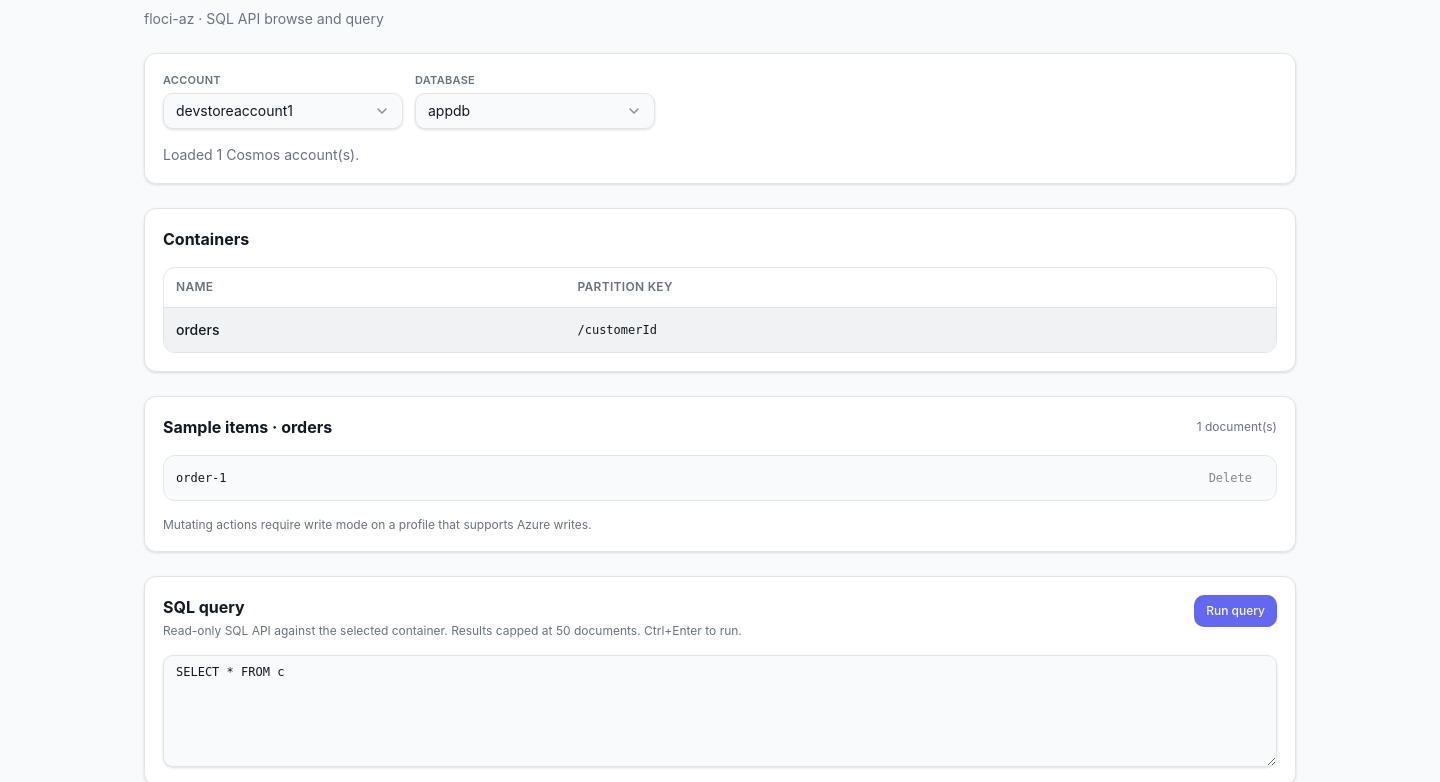
Scenario: AzureCosmosView › shows a query error from the backend
The width and height of the screenshot is (1440, 782).
Click the button "Run query" at (1236, 611), box [1194,595,1277,627]
(page scrolled)
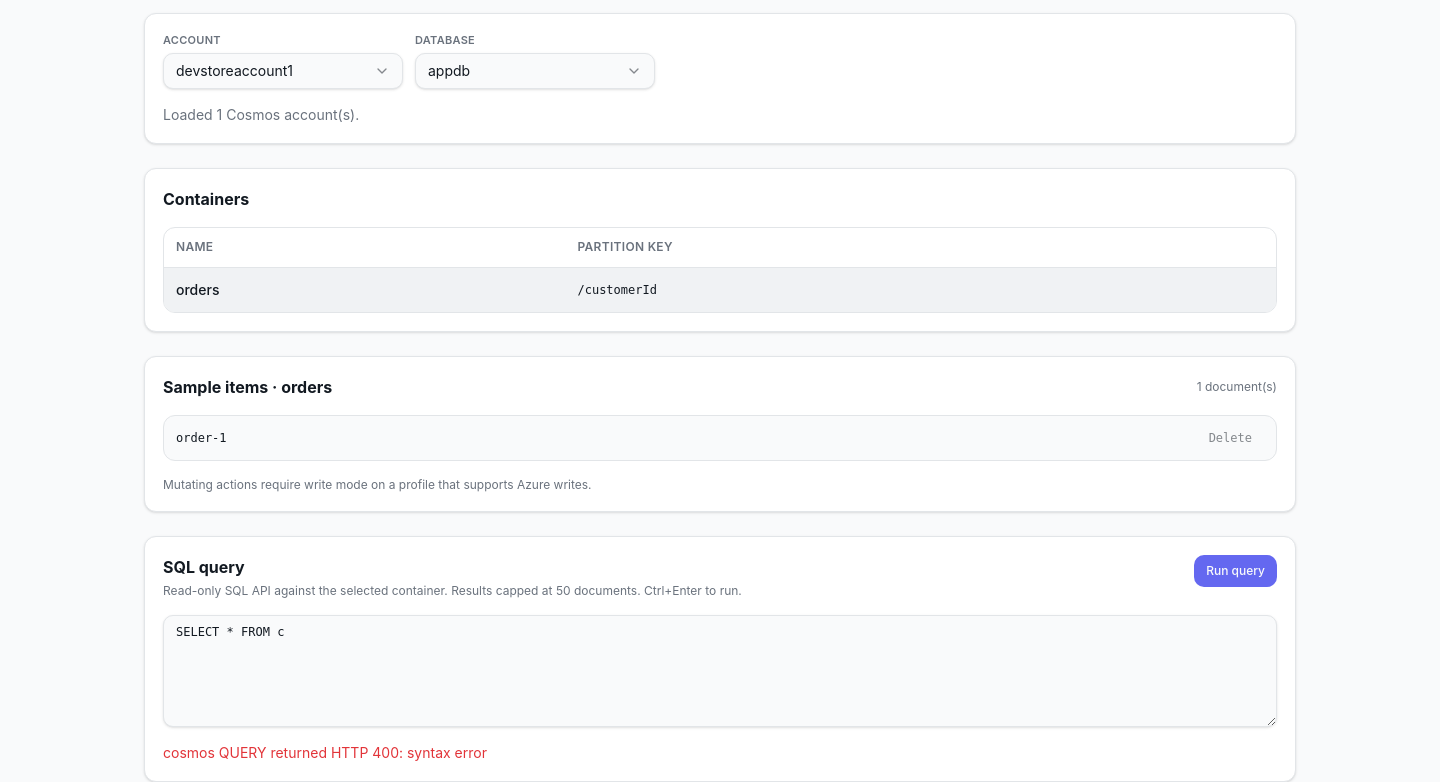
expect the text "cosmos QUERY returned HTTP 400: syntax error" is shown: met, box [163,744,487,761]
